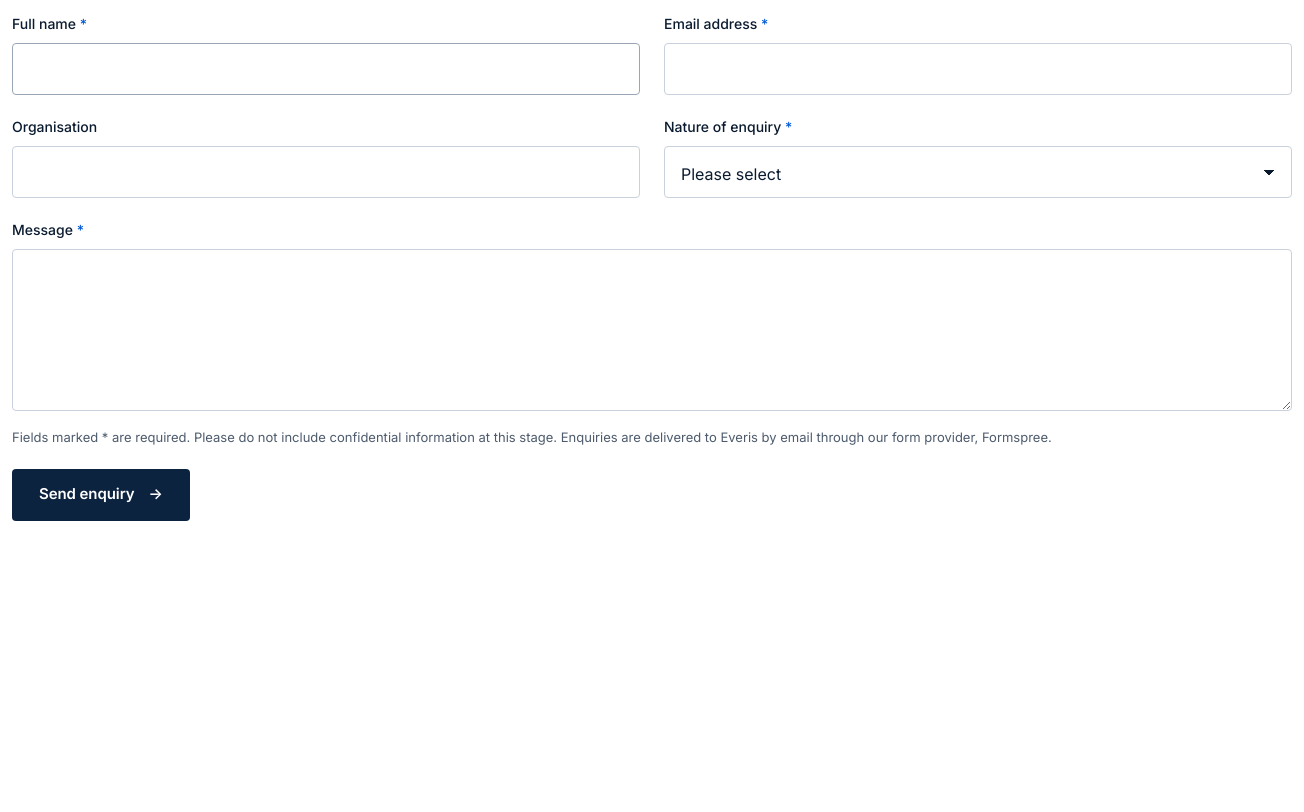
Test case: enquiry form with a Formspree endpoint › keeps the enquiry and reports an error when delivery fails
This screenshot has width=1304, height=812.
In the field labelled "Full name *": (326, 69) [12, 43, 640, 95], type "Ada Obi"
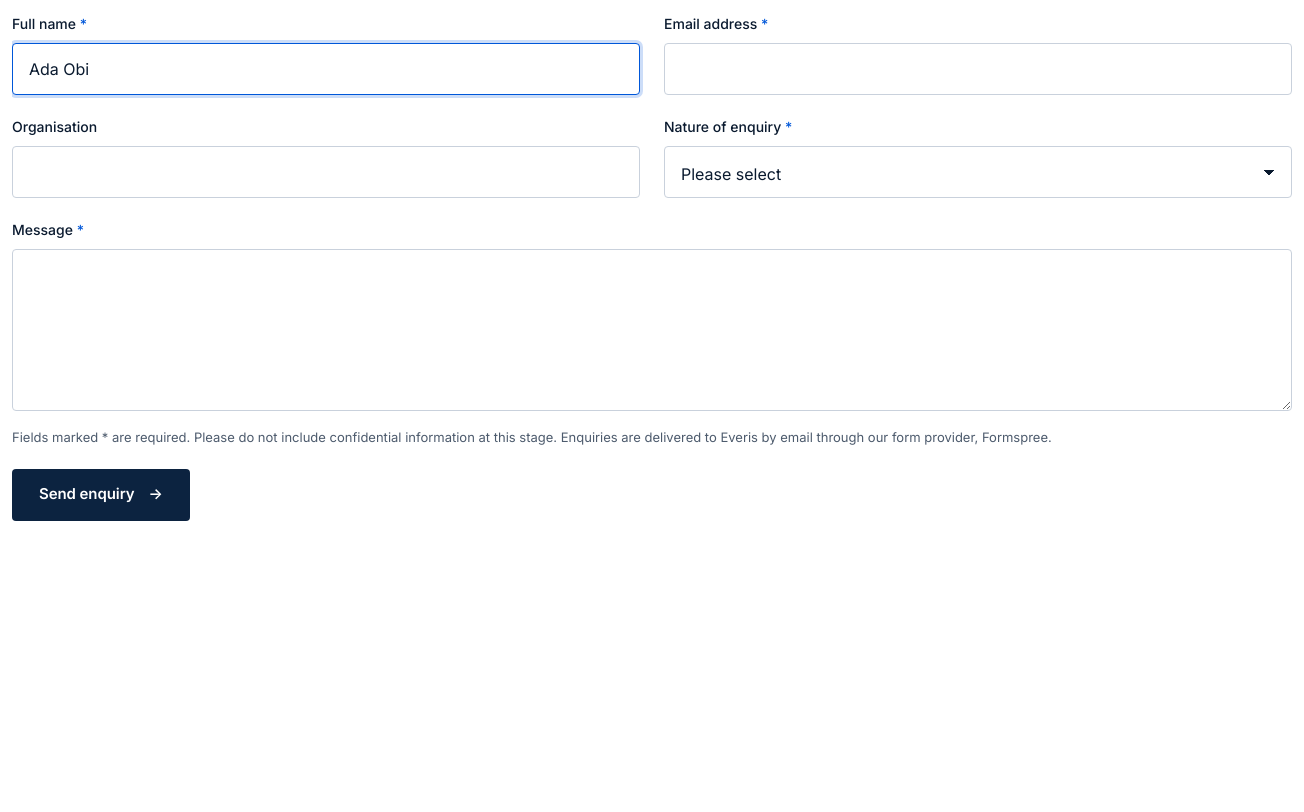
In the field labelled "Email address *": (978, 69) [664, 43, 1292, 95], type "ada@example.com"
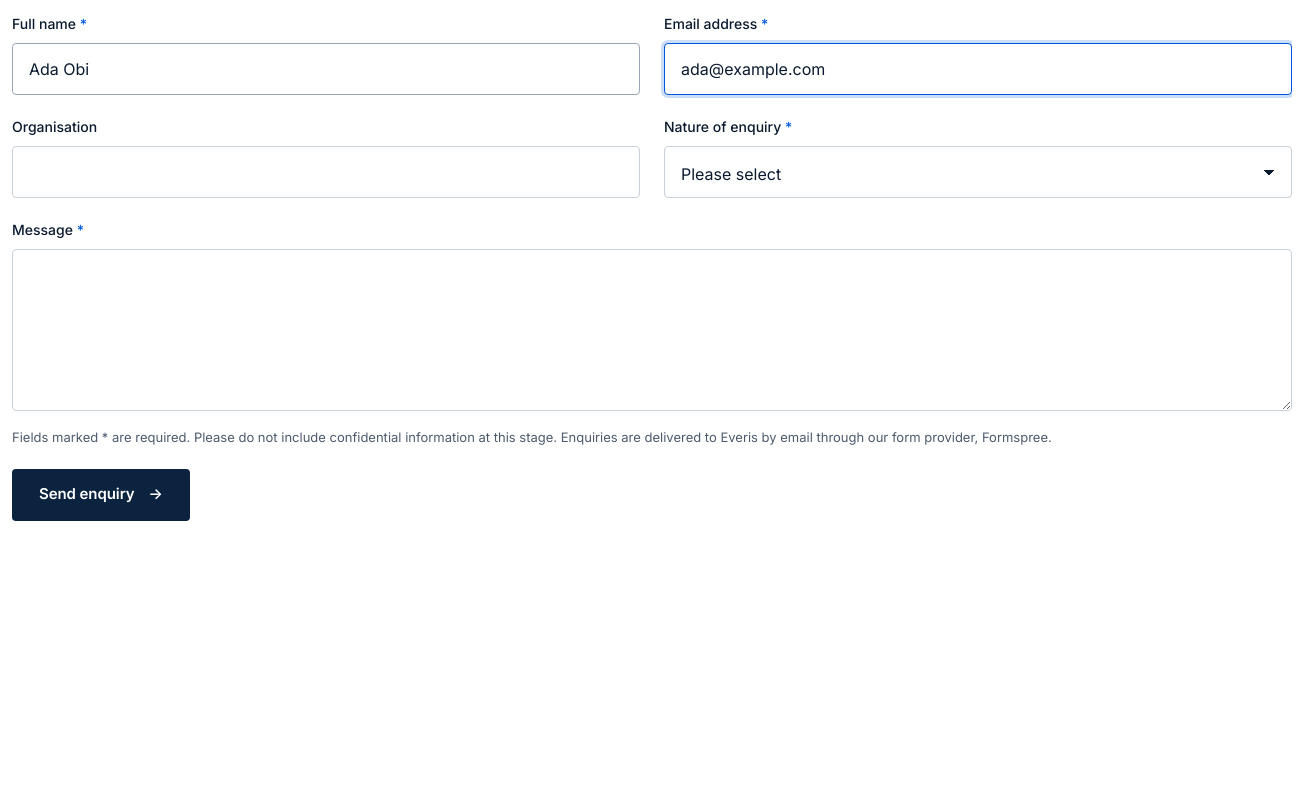
Select "Project proposal" in the dropdown labelled "Nature of enquiry *": (978, 172) [664, 146, 1292, 198]
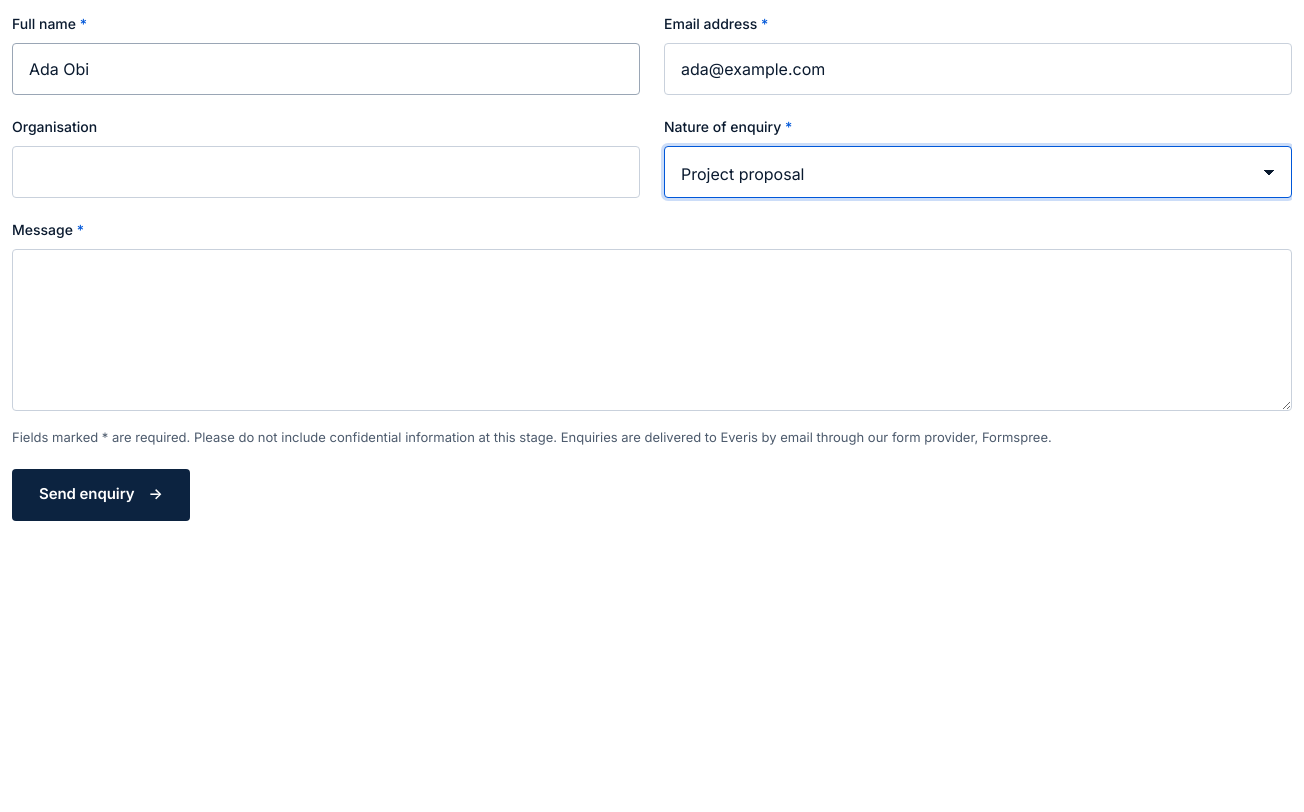
In the text box labelled "Message *": (652, 330) [12, 249, 1292, 411], type "A 20 MW solar site."
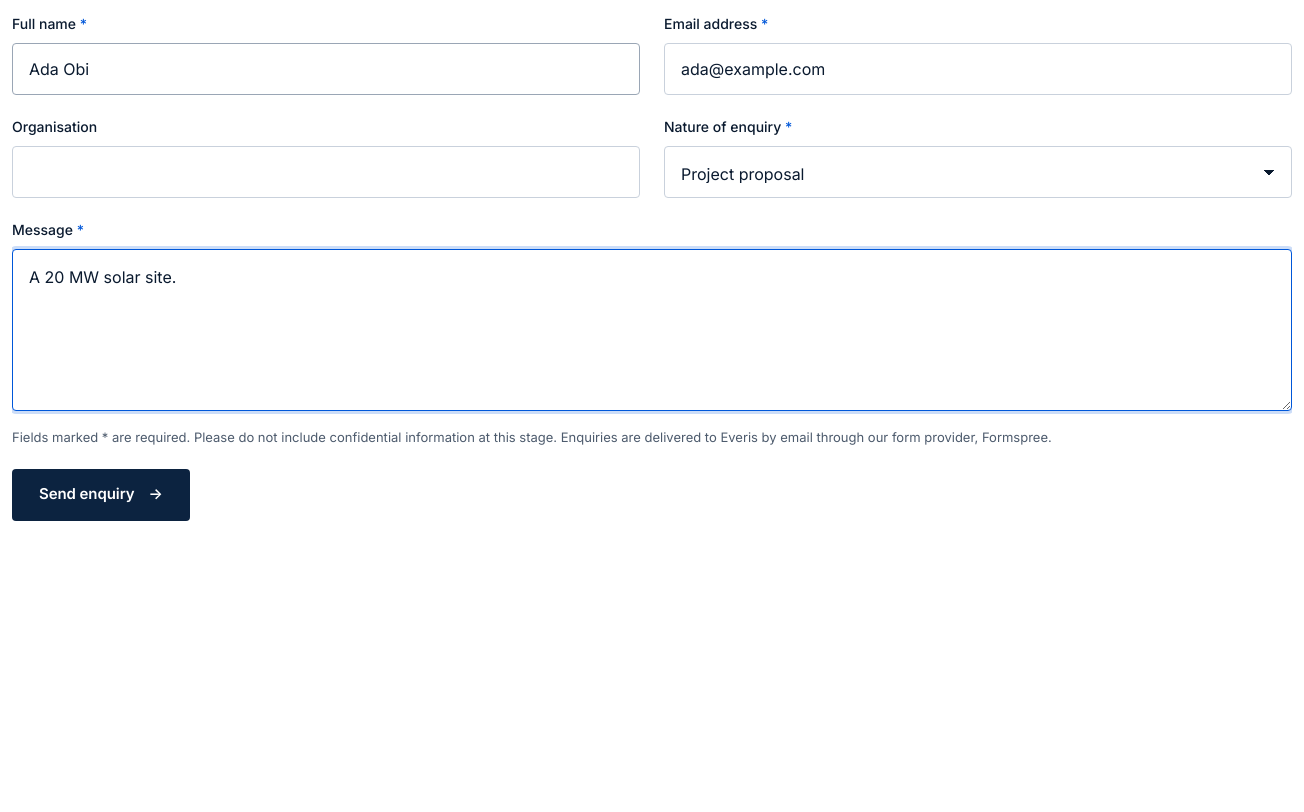
Click the button "Send enquiry →": (101, 495) [12, 469, 190, 521]
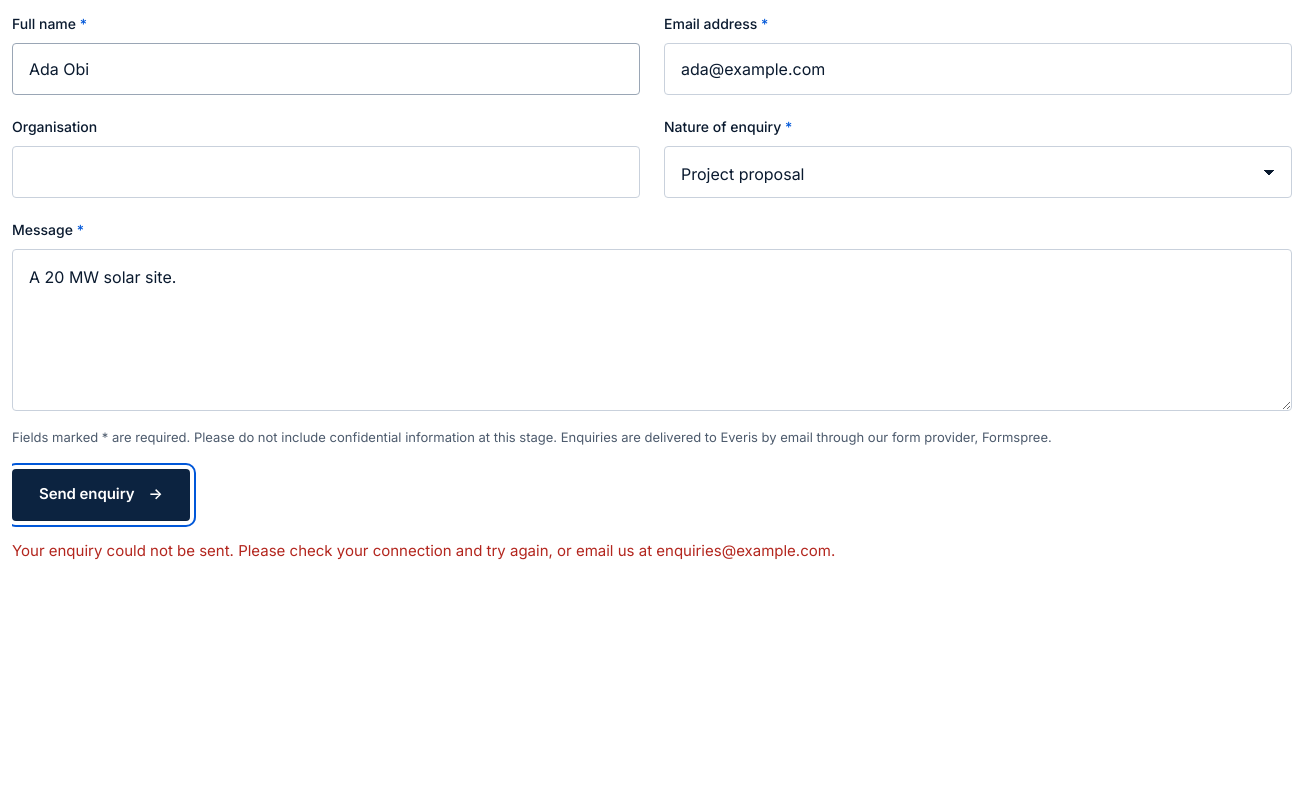
Now the text "could not be sent" shows "or email us at enquiries@example.com", box [12, 541, 835, 560]
